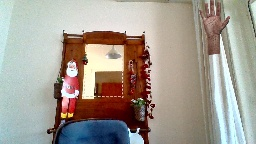Mano_aperta: (197, 0, 231, 38)
